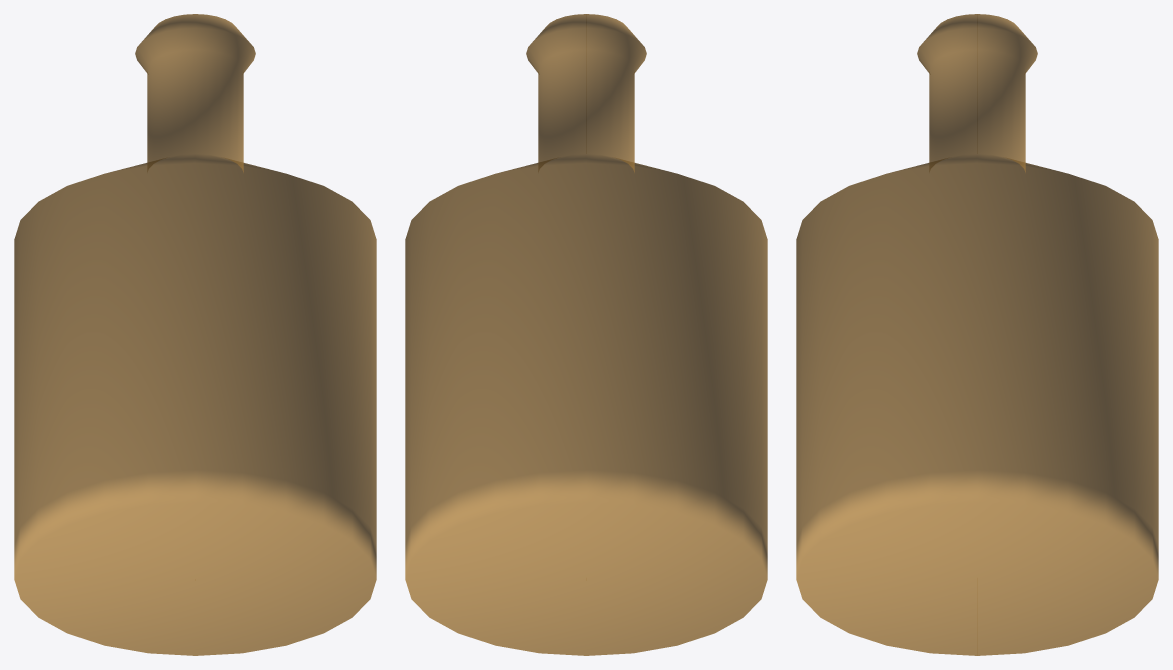
File: bottle.glb
3 views of the same model, side by side, from view 1: azimuth 30°, elevation 25°; view 2: azimuth 150°, elevation 25°; view 3: azimuth 270°, elevation 25° (orthographic).
Parts seen in each view (by area): view 1: Bottle; view 2: Bottle; view 3: Bottle.
Boxes of the visible parts, x1,y1,x2,y2 form: Bottle: (14,14,376,655); Bottle: (405,14,767,655); Bottle: (796,14,1158,655).
Size of the model in its own units: 0.6 by 1 by 0.6.
